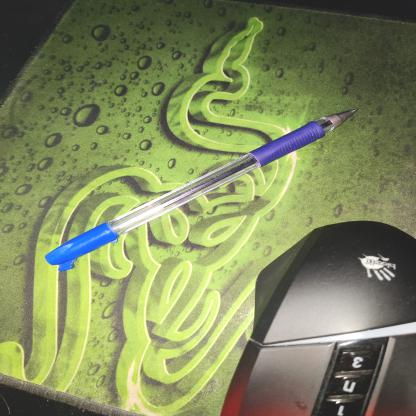pen: (12, 95, 368, 274)
